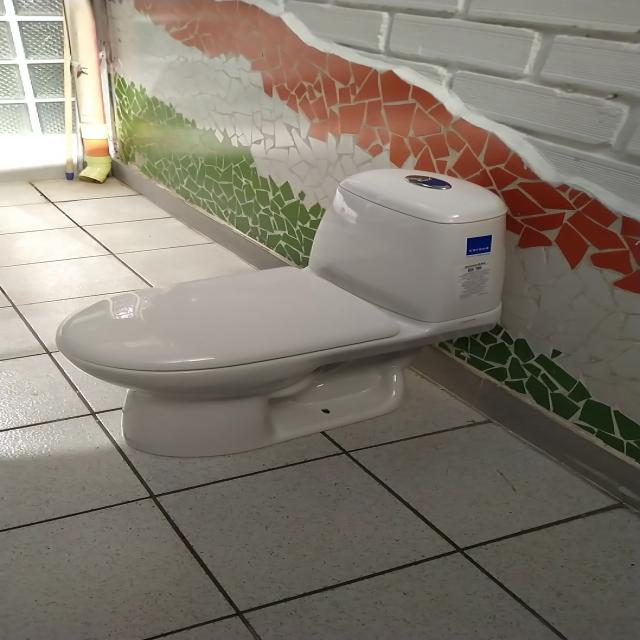toilet: (54, 167, 508, 458)
